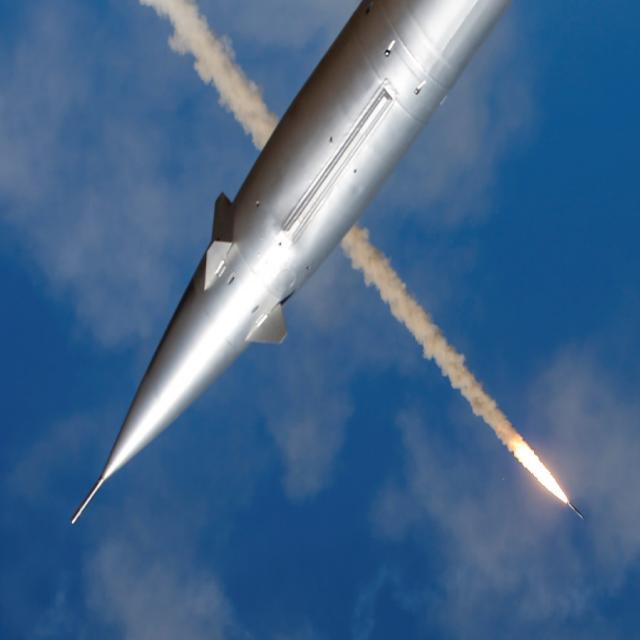missile: (62, 0, 512, 530)
